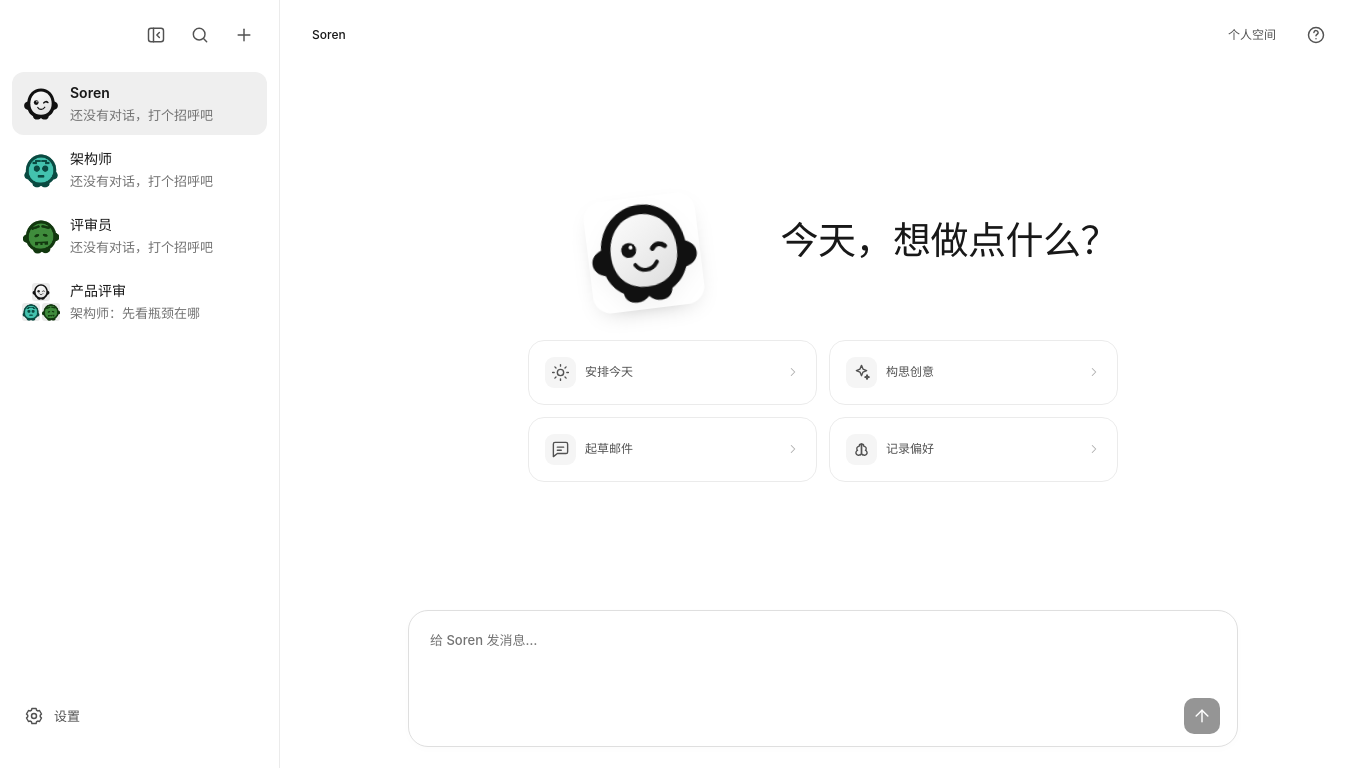
@ 提及补全 › 输入 @ 弹出候选，鼠标点击可选中
This screenshot has width=1366, height=768.
Click the button "产品评审 架构师：先看瓶颈在哪": (140, 302) [12,270,267,333]
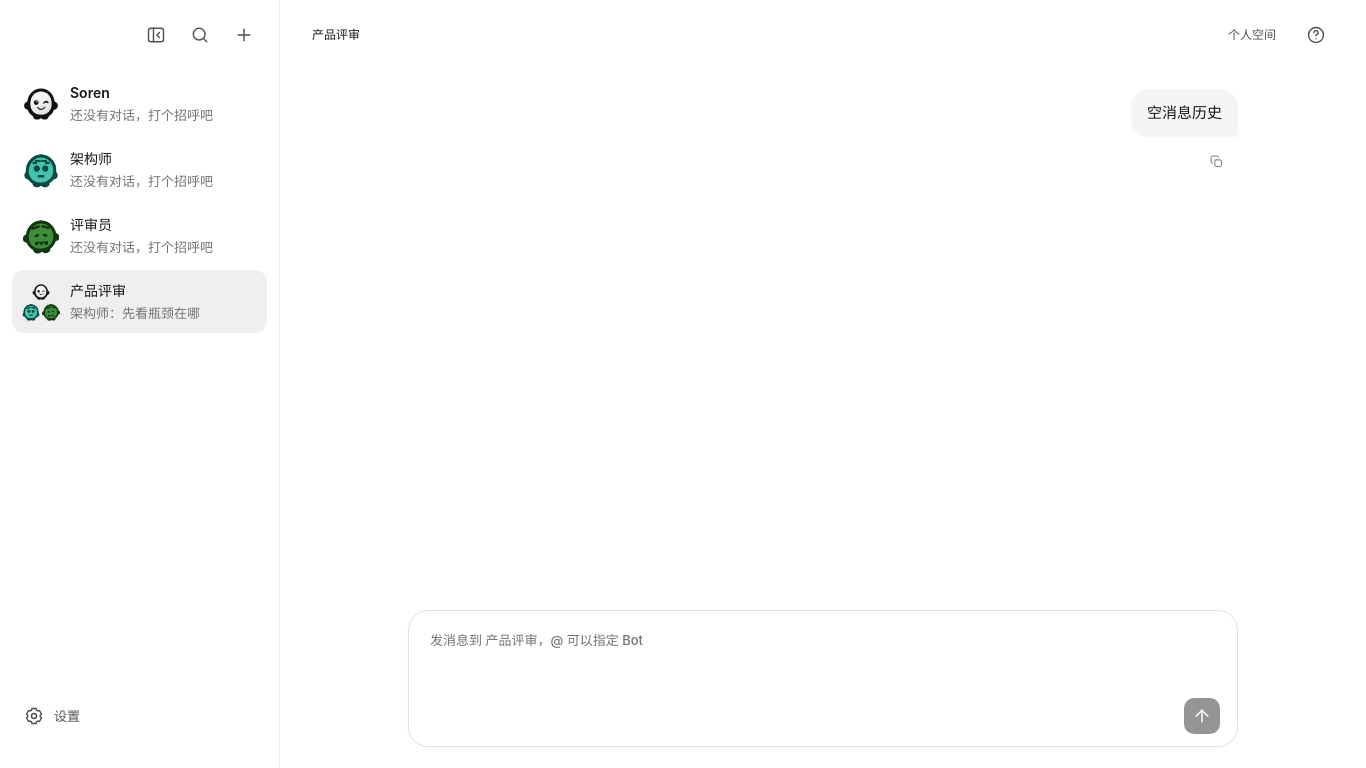
Expected: the text "空消息历史" is shown, [1131,89,1238,137]
In the text box named "消息输入框": (823, 660) [426,629,1220,691], type "@"
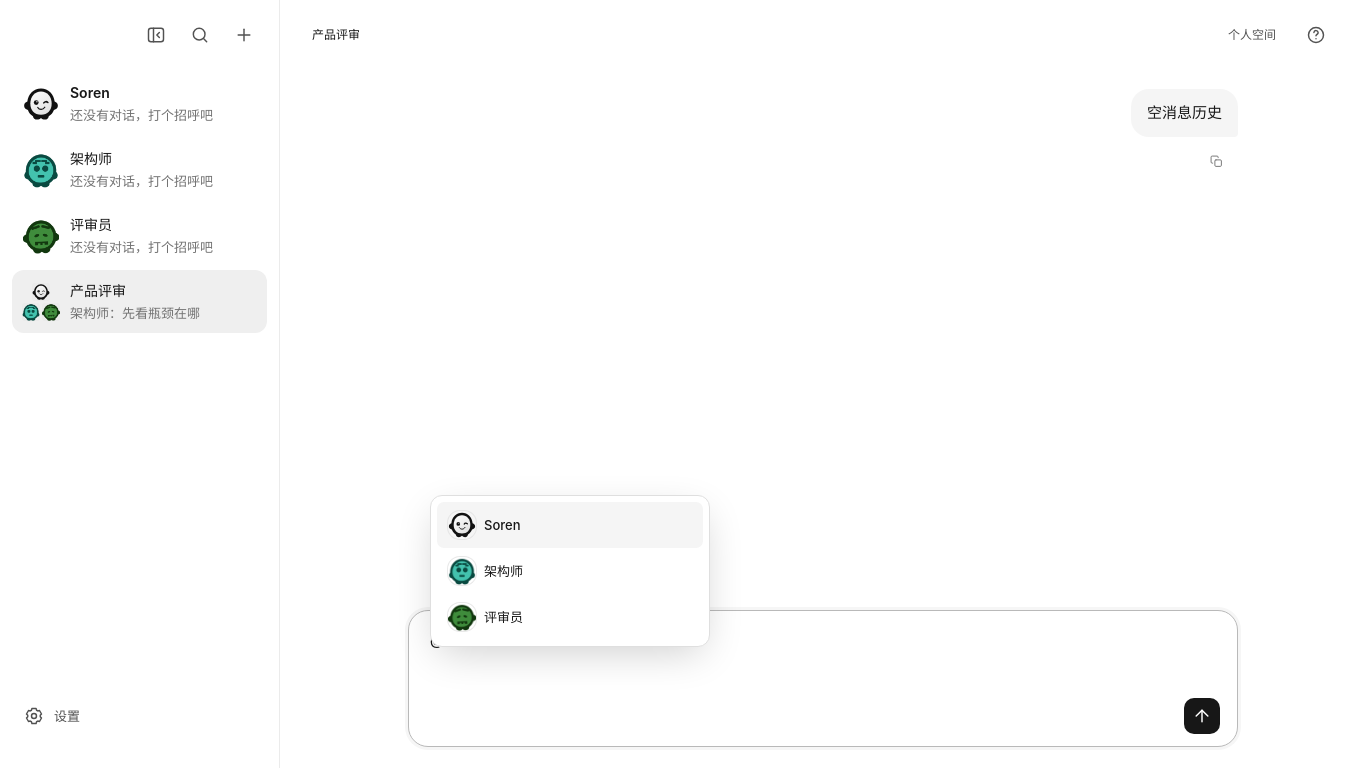
Expected: the options read "Soren", "架构师", "评审员", in this order
Click the option "架构师": (486, 571) [448,557,523,585]
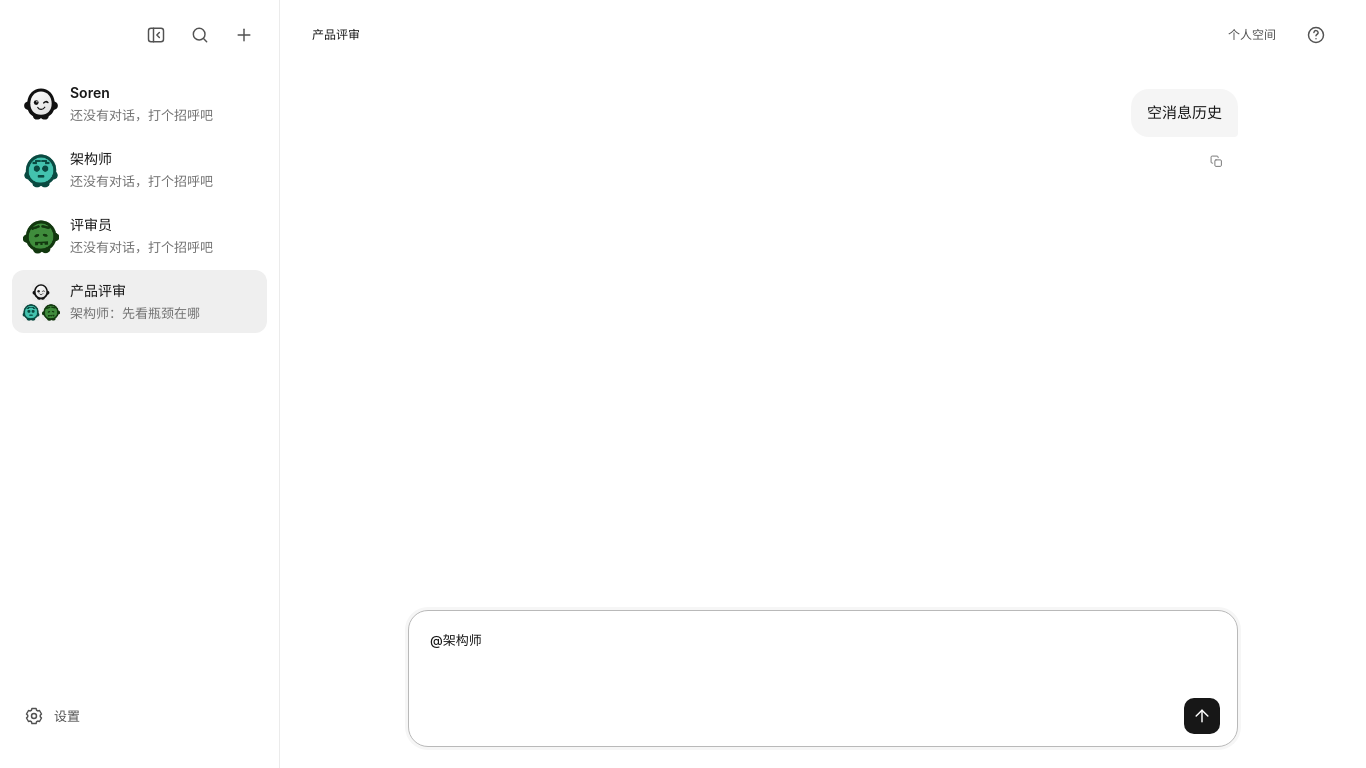
Expected: the text box named "消息输入框" holds "@架构师 ", [426,629,1220,691]
Expected: the list is gone
